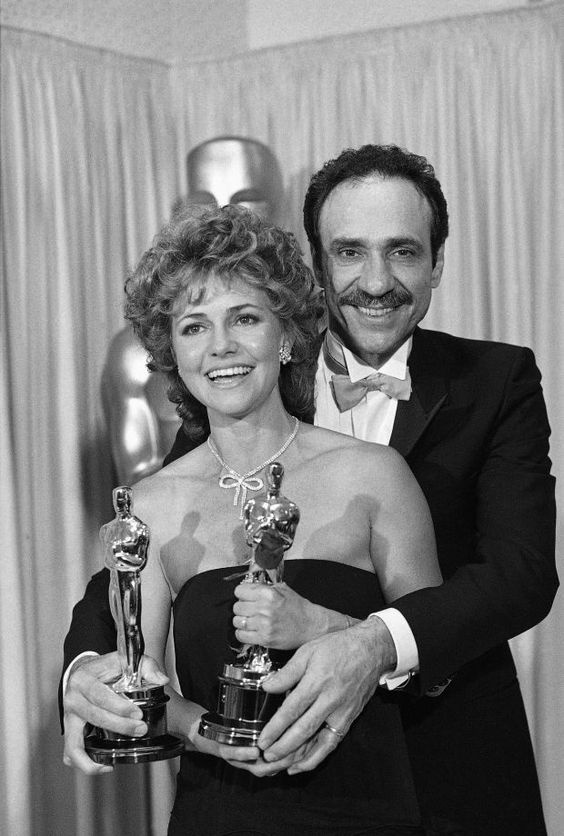hand: (232, 581, 310, 635)
